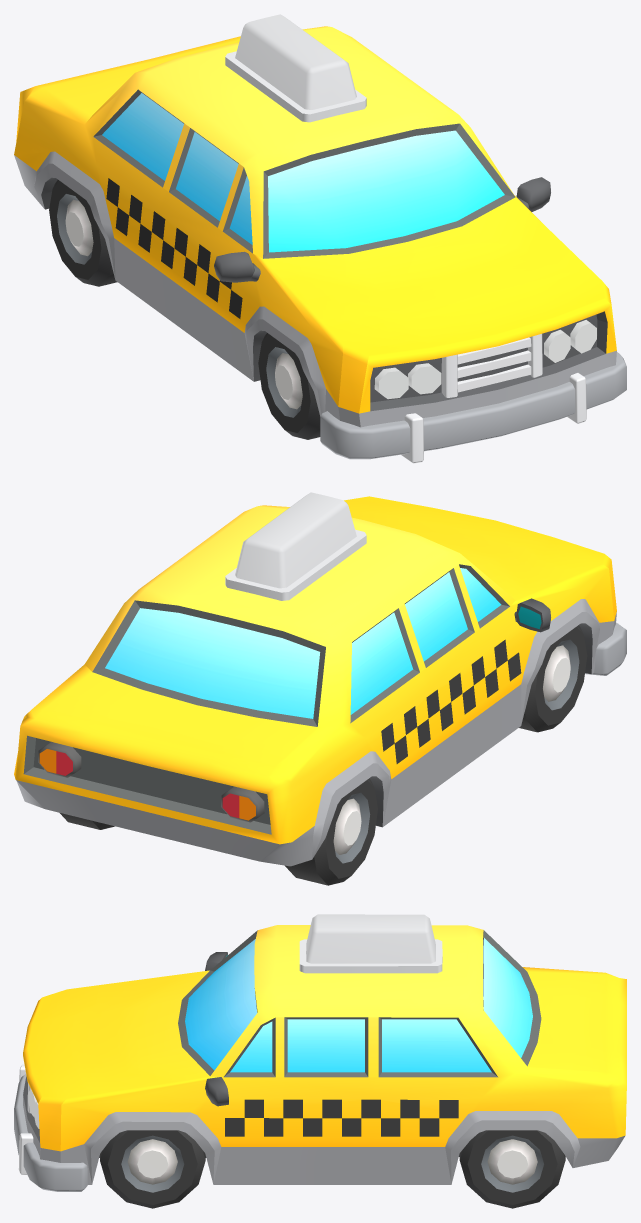
File: city2-car-42.glb
3 views of the same model, one above another, from view 1: azimuth 30°, elevation 25°; view 2: azimuth 150°, elevation 25°; view 3: azimuth 270°, elevation 25° (orthographic). The views are drawn at different scales.
Visible parts, largest first — view 1: Cylinder.007, Wheel_158, Wheel_157; view 2: Cylinder.007, Wheel_158, Wheel_157; view 3: Cylinder.007, Wheel_159, Wheel_160.
Part boxes in pixels (x1,y1,x2,y2): Cylinder.007: [14, 14, 626, 463]; Wheel_158: [49, 180, 117, 286]; Wheel_157: [258, 333, 320, 439]; Cylinder.007: [14, 492, 626, 866]; Wheel_158: [285, 778, 377, 885]; Wheel_157: [519, 625, 587, 732]; Cylinder.007: [14, 914, 626, 1191]; Wheel_159: [100, 1130, 205, 1208]; Wheel_160: [459, 1130, 565, 1208].
Size of the model in its own units: 2.3 by 1.79 by 4.26.
2 materials, 2 textured.
